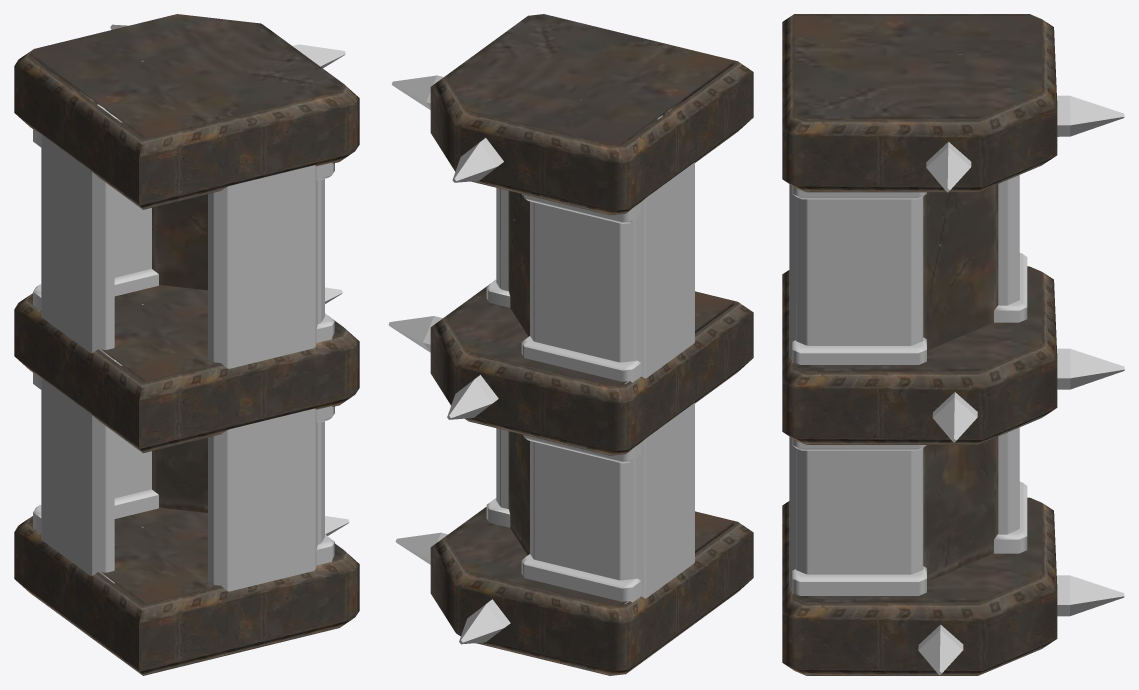
The picture shows the model from 3 angles, left to right: view 1: azimuth 30°, elevation 25°; view 2: azimuth 150°, elevation 25°; view 3: azimuth 270°, elevation 25°; orthographic projection. The views are drawn at different scales.
Visible parts, largest first — view 1: SM_Dowdun_CornerBrace_01_LOD0; view 2: SM_Dowdun_CornerBrace_01_LOD0; view 3: SM_Dowdun_CornerBrace_01_LOD0.
Boxes of the visible parts, bbox=[...] form: SM_Dowdun_CornerBrace_01_LOD0: bbox=[14, 14, 359, 675]; SM_Dowdun_CornerBrace_01_LOD0: bbox=[388, 14, 753, 675]; SM_Dowdun_CornerBrace_01_LOD0: bbox=[782, 14, 1124, 675].
Size of the model in its own units: 1.61 by 2.9 by 1.61.
